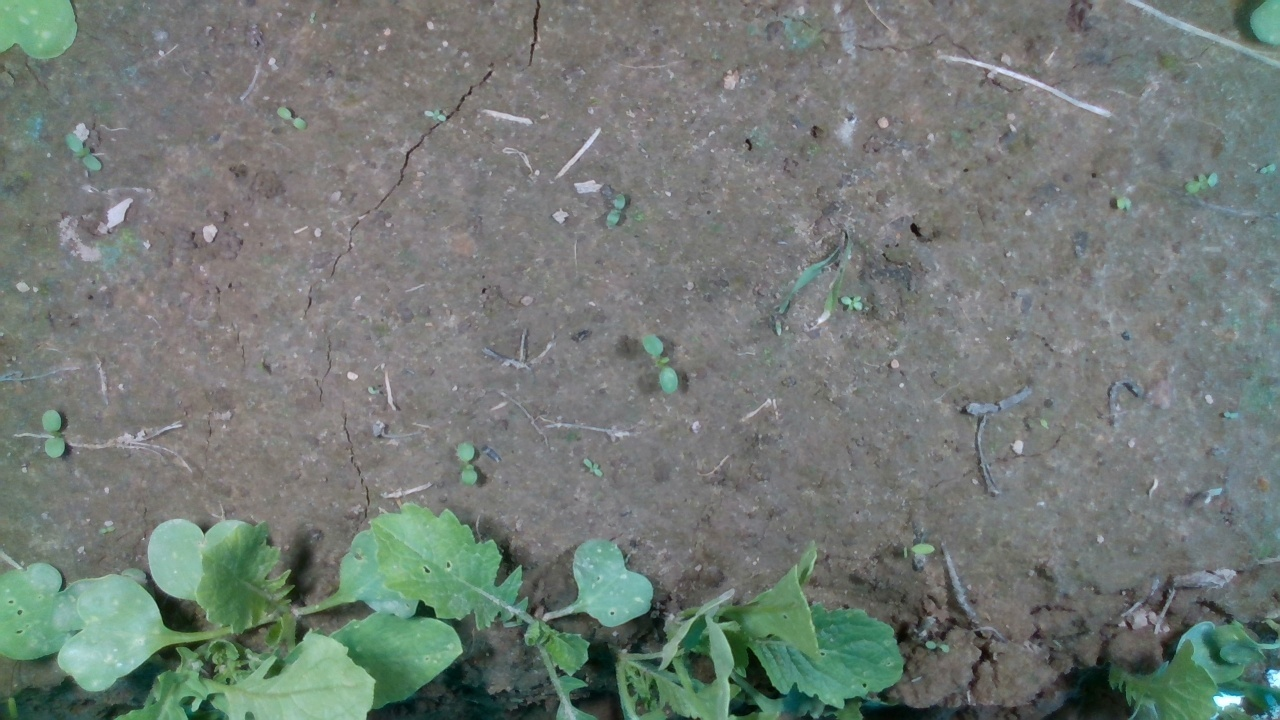weed: (604, 192, 626, 231)
